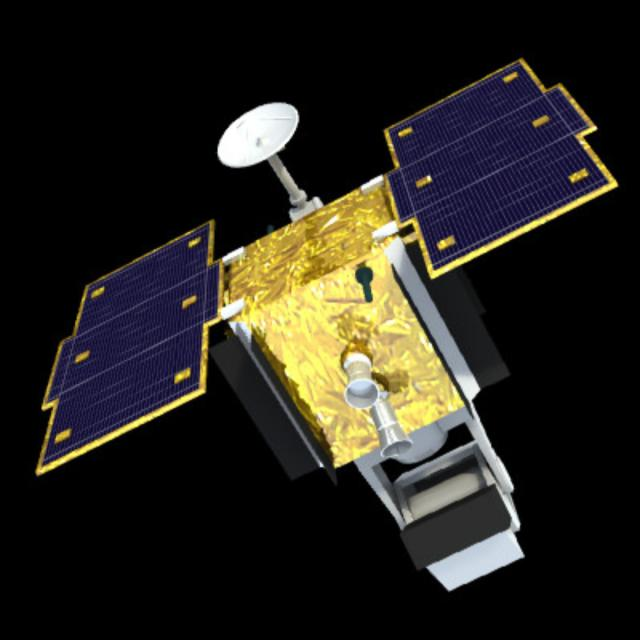satellite: (39, 48, 616, 592)
